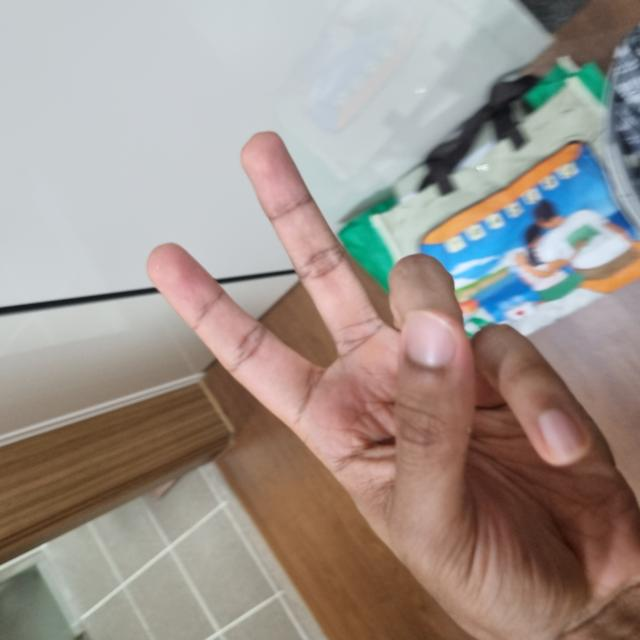Scissors: (3, 145, 513, 639)
